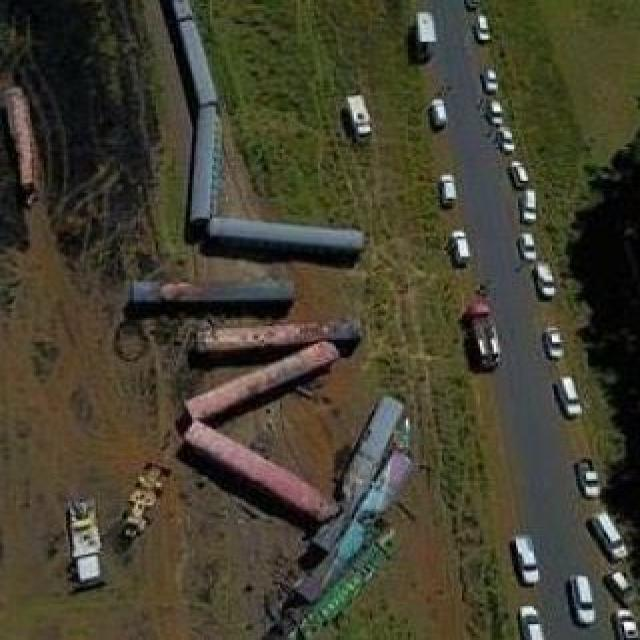traffic_incident: (104, 28, 406, 610)
